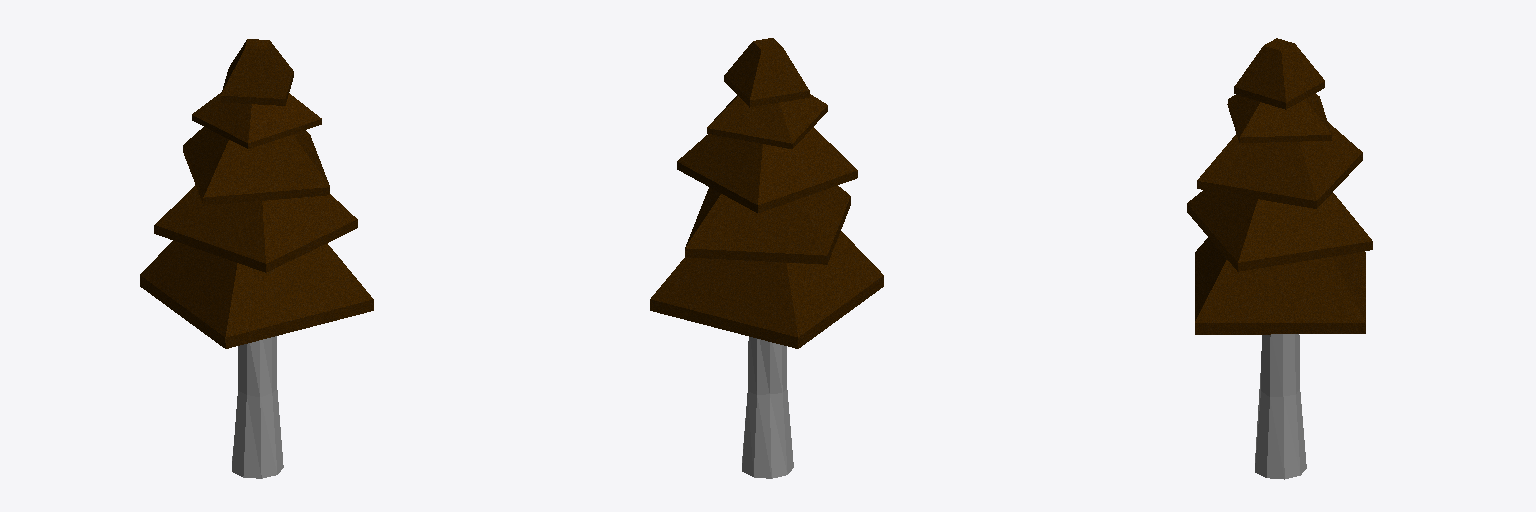
The picture shows the model from 3 angles: view 1: azimuth 30°, elevation 25°; view 2: azimuth 150°, elevation 25°; view 3: azimuth 270°, elevation 25°; orthographic projection.
Parts seen in each view (by area): view 1: Cube.004, wood_Cylinder; view 2: Cube.004, wood_Cylinder; view 3: Cube.004, wood_Cylinder.
Boxes of the visible parts, x1=… form: Cube.004: x1=140, y1=39, x2=373, y2=348; wood_Cylinder: x1=232, y1=336, x2=283, y2=478; Cube.004: x1=650, y1=38, x2=883, y2=348; wood_Cylinder: x1=742, y1=337, x2=793, y2=478; Cube.004: x1=1187, y1=38, x2=1372, y2=334; wood_Cylinder: x1=1255, y1=334, x2=1306, y2=479.
Size of the model in its own units: 1.21 by 3.03 by 1.21.
Materials: 2 (1 with a texture image).